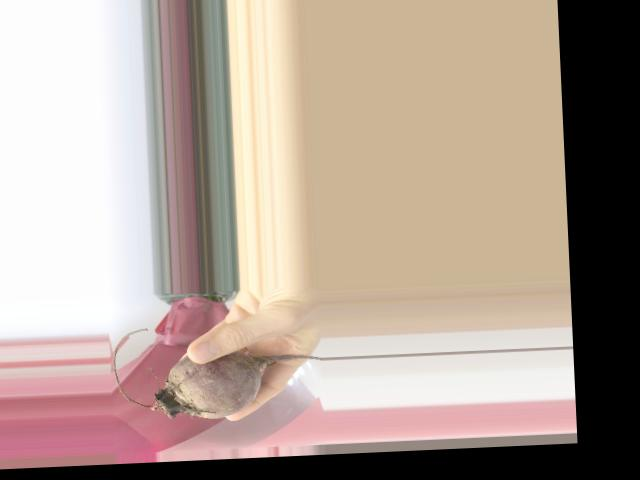beet: (110, 320, 323, 422)
